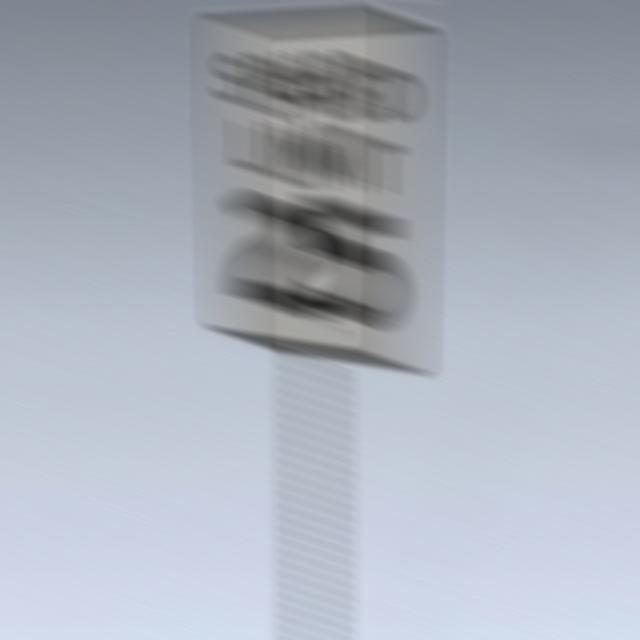speedLimit25: (216, 15, 420, 353)
